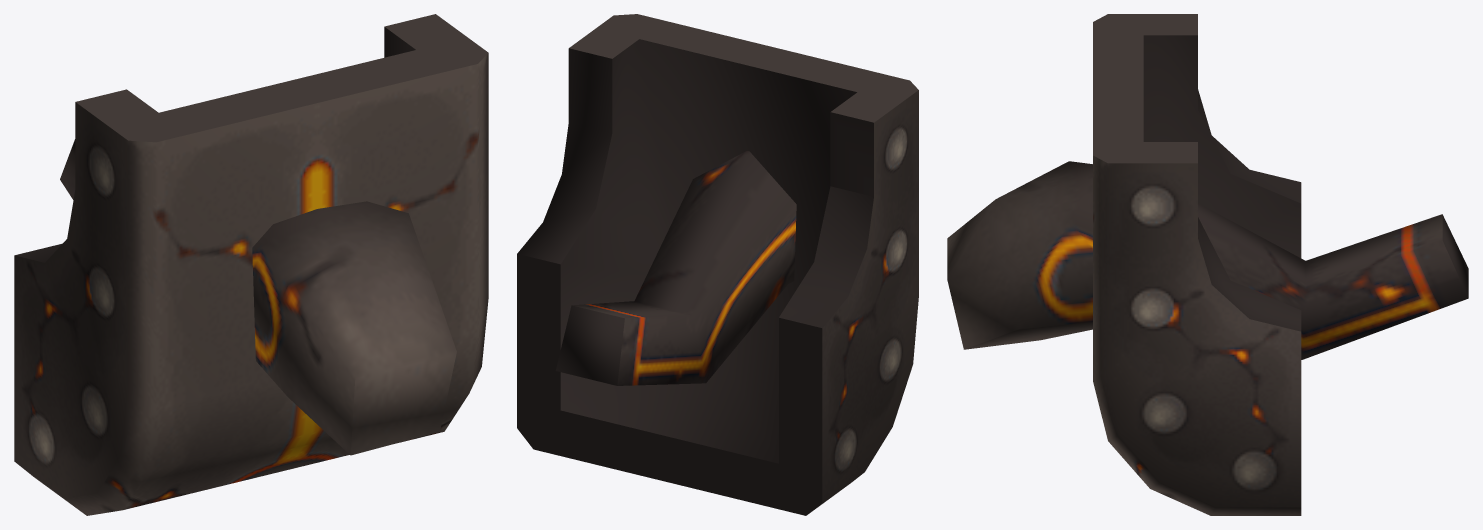
File: scuttlebot_destruct_bits.glb
3 views of the same model, side by side, from view 1: azimuth 30°, elevation 25°; view 2: azimuth 150°, elevation 25°; view 3: azimuth 270°, elevation 25° (orthographic). The views are drawn at different scales.
Parts seen in each view (by area): view 1: scuttlebot.scuttlebot_destruct_bits-MeshSets[scuttlebot_skul, scuttlebot.scuttlebot_destruct_bits-MeshSets[scuttlebot_leg]; view 2: scuttlebot.scuttlebot_destruct_bits-MeshSets[scuttlebot_skul, scuttlebot.scuttlebot_destruct_bits-MeshSets[scuttlebot_leg]; view 3: scuttlebot.scuttlebot_destruct_bits-MeshSets[scuttlebot_skul, scuttlebot.scuttlebot_destruct_bits-MeshSets[scuttlebot_leg].
Boxes of the visible parts, x1=… form: scuttlebot.scuttlebot_destruct_bits-MeshSets[scuttlebot_skul: x1=14, y1=14, x2=488, y2=515; scuttlebot.scuttlebot_destruct_bits-MeshSets[scuttlebot_leg]: x1=60, y1=139, x2=456, y2=455; scuttlebot.scuttlebot_destruct_bits-MeshSets[scuttlebot_skul: x1=517, y1=14, x2=918, y2=515; scuttlebot.scuttlebot_destruct_bits-MeshSets[scuttlebot_leg]: x1=555, y1=151, x2=796, y2=385; scuttlebot.scuttlebot_destruct_bits-MeshSets[scuttlebot_skul: x1=1093, y1=14, x2=1301, y2=515; scuttlebot.scuttlebot_destruct_bits-MeshSets[scuttlebot_leg]: x1=947, y1=161, x2=1468, y2=359.
Bounding box in the file's own units: 0.56 × 0.63 × 0.8252.
Materials: 1 (1 with a texture image).
